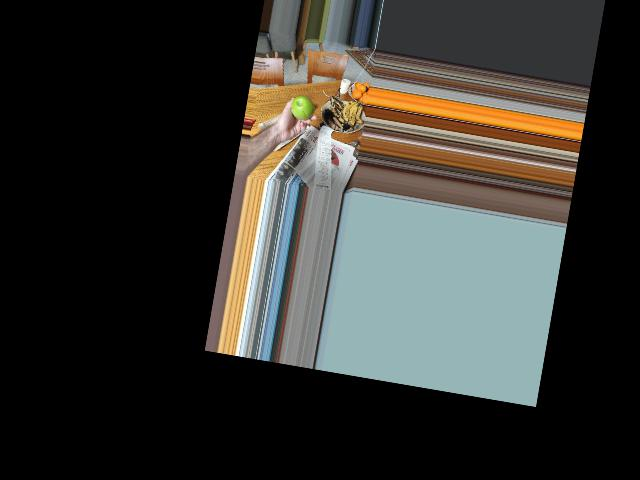apple: (289, 94, 315, 123)
